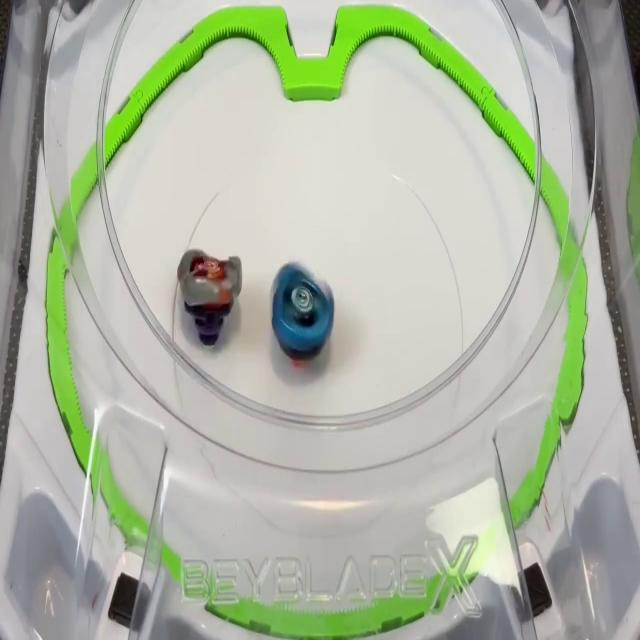Beyblade: (177, 248, 243, 350), (270, 262, 334, 364)
